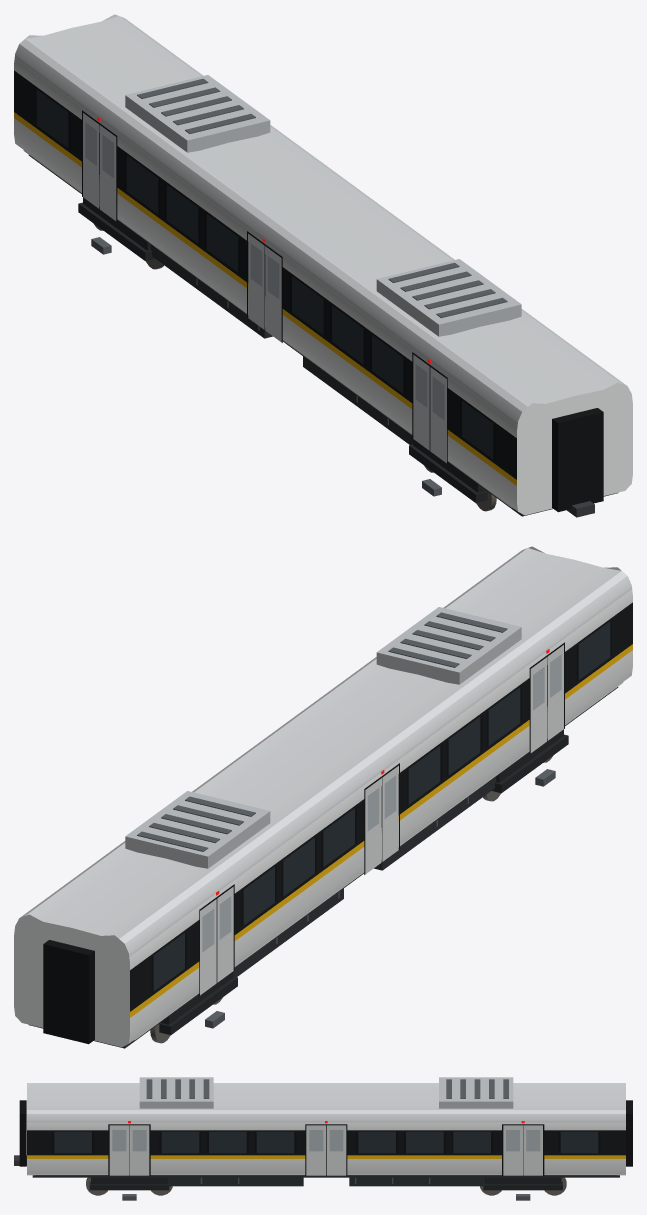
The model's file is circular-line-middle.glb.
The picture shows the model from 3 angles, top to bottom: view 1: azimuth 30°, elevation 25°; view 2: azimuth 150°, elevation 25°; view 3: azimuth 270°, elevation 25°; orthographic projection. The views are drawn at different scales.
Parts seen in each view (by area): view 1: CircularLine_Middle; view 2: CircularLine_Middle; view 3: CircularLine_Middle.
Boxes of the visible parts, x1,y1,x2,y2 form: CircularLine_Middle: (14,14,632,517); CircularLine_Middle: (14,546,632,1048); CircularLine_Middle: (14,1077,632,1200).
Size of the model in its own units: 2.94 by 3.74 by 21.7.
